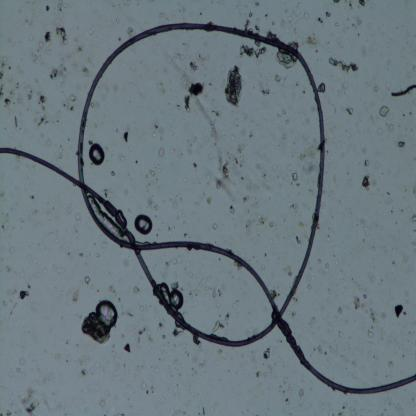Air bubble: (160, 281, 184, 311), (95, 299, 118, 328), (88, 143, 106, 166), (134, 212, 152, 235), (397, 140, 406, 148)
Background material: (80, 312, 112, 345), (224, 64, 244, 107), (390, 81, 416, 100), (298, 138, 320, 160), (275, 48, 297, 70), (328, 57, 360, 72), (20, 386, 37, 414), (66, 283, 84, 306), (238, 44, 267, 58), (242, 12, 261, 33), (196, 97, 212, 121), (57, 94, 76, 114), (255, 162, 270, 187), (36, 104, 50, 129), (209, 120, 221, 148), (279, 376, 295, 396), (26, 210, 42, 230), (144, 190, 158, 212), (222, 183, 237, 203), (40, 389, 52, 412), (55, 27, 69, 46), (268, 158, 280, 180), (152, 121, 165, 141), (186, 82, 204, 96), (0, 212, 12, 233), (42, 26, 52, 51), (59, 56, 69, 81), (7, 74, 18, 96), (257, 82, 272, 98), (302, 33, 319, 47), (185, 135, 198, 153), (46, 228, 61, 243), (286, 199, 300, 215), (160, 218, 174, 234), (96, 395, 110, 411), (155, 312, 165, 334), (74, 213, 85, 233), (394, 302, 406, 320), (215, 148, 224, 172), (116, 295, 126, 316), (280, 263, 294, 278), (154, 79, 166, 96), (0, 59, 5, 99), (172, 191, 183, 209), (243, 182, 252, 204), (174, 48, 188, 62), (184, 284, 197, 298), (335, 77, 348, 91), (0, 381, 13, 395), (195, 50, 211, 61), (328, 338, 339, 354), (244, 216, 254, 233), (361, 176, 371, 193), (7, 285, 18, 300), (78, 63, 89, 78), (221, 162, 230, 180), (112, 360, 121, 378), (352, 295, 362, 311), (312, 341, 322, 357), (379, 104, 390, 118), (191, 334, 202, 348), (30, 50, 40, 65), (307, 316, 317, 331), (272, 73, 284, 85), (212, 320, 224, 332), (195, 404, 207, 416), (304, 165, 317, 176), (168, 406, 182, 416), (366, 270, 376, 284), (322, 262, 332, 276), (106, 284, 118, 295), (73, 43, 85, 54), (211, 287, 222, 299), (78, 358, 94, 366), (201, 278, 210, 292), (184, 95, 191, 113), (266, 363, 275, 377), (236, 140, 245, 154), (50, 66, 59, 80), (19, 289, 30, 300), (122, 342, 132, 354), (259, 96, 269, 108), (24, 18, 34, 30), (151, 394, 166, 402), (362, 225, 371, 238), (57, 143, 63, 162), (370, 307, 377, 323), (122, 130, 130, 144), (10, 302, 18, 316), (136, 325, 147, 335), (13, 114, 20, 129), (318, 81, 326, 94), (26, 31, 34, 44), (3, 264, 13, 274), (188, 61, 198, 71), (366, 330, 376, 340), (354, 281, 364, 291), (387, 358, 396, 369), (287, 309, 298, 318), (257, 214, 266, 225), (88, 100, 97, 111), (89, 24, 96, 38), (292, 170, 299, 184), (264, 349, 271, 363), (324, 231, 332, 243), (25, 88, 33, 100), (125, 24, 133, 36), (252, 199, 260, 211), (38, 93, 46, 105), (64, 336, 72, 348), (212, 109, 222, 118), (172, 328, 182, 337), (116, 154, 126, 163), (330, 174, 340, 183), (206, 149, 214, 160), (386, 120, 394, 131), (132, 286, 143, 294), (346, 105, 354, 116), (58, 2, 69, 10), (101, 240, 109, 251), (376, 125, 383, 137), (147, 332, 154, 344), (295, 234, 302, 246), (79, 368, 88, 377), (329, 406, 337, 416), (246, 129, 254, 139), (69, 92, 77, 102), (280, 130, 288, 140), (357, 1, 367, 9), (284, 119, 294, 127), (190, 367, 198, 377), (7, 246, 15, 256), (17, 357, 25, 367), (314, 255, 322, 265), (224, 314, 230, 327), (271, 289, 278, 300), (158, 147, 165, 158), (370, 178, 378, 187), (195, 347, 204, 355), (182, 228, 188, 240), (136, 364, 145, 372), (332, 259, 340, 268), (4, 98, 12, 107), (114, 15, 122, 24), (169, 257, 178, 265), (54, 352, 62, 361), (56, 269, 66, 276), (168, 364, 173, 378), (297, 398, 304, 408), (198, 362, 208, 369), (173, 211, 180, 221), (338, 274, 345, 284), (230, 204, 236, 215), (113, 411, 126, 416), (44, 4, 52, 12), (280, 109, 288, 117), (201, 40, 209, 48), (292, 295, 300, 303), (28, 193, 35, 202), (232, 301, 239, 310), (173, 358, 180, 367), (295, 219, 304, 226), (206, 196, 212, 206), (255, 370, 262, 378), (127, 310, 134, 318), (110, 349, 118, 356), (324, 11, 332, 18), (40, 266, 47, 274), (1, 299, 8, 307), (25, 282, 32, 290), (338, 329, 344, 338), (139, 305, 145, 314), (4, 410, 13, 416), (216, 178, 221, 188), (240, 155, 245, 165), (18, 96, 23, 106), (140, 381, 146, 389), (306, 284, 312, 292), (413, 181, 416, 197), (192, 162, 198, 170), (156, 164, 162, 172), (212, 222, 218, 230), (84, 276, 90, 284), (268, 220, 274, 228), (160, 332, 166, 340), (154, 366, 160, 374), (218, 348, 226, 354), (32, 273, 40, 279), (94, 360, 100, 368), (149, 168, 155, 176), (260, 262, 265, 271), (411, 214, 416, 223), (110, 169, 116, 176), (352, 359, 359, 365), (188, 271, 194, 278), (20, 372, 26, 379), (8, 370, 14, 377), (136, 336, 141, 344), (115, 126, 120, 134), (299, 389, 304, 397), (66, 354, 71, 362), (410, 241, 416, 247), (385, 190, 391, 196), (177, 371, 183, 377), (94, 252, 100, 258), (78, 251, 84, 257), (338, 308, 343, 315), (48, 326, 52, 334), (284, 397, 289, 403), (294, 82, 299, 88), (320, 404, 325, 410), (301, 89, 306, 95), (338, 411, 344, 416), (180, 177, 186, 182), (392, 220, 398, 225), (360, 218, 365, 224), (323, 350, 328, 356), (123, 362, 127, 369), (151, 384, 154, 393), (134, 159, 139, 164), (263, 252, 268, 257), (136, 345, 140, 351), (341, 404, 345, 410), (372, 246, 376, 252), (374, 85, 378, 91), (17, 367, 21, 373), (364, 294, 368, 300), (165, 262, 169, 268), (365, 162, 370, 166), (145, 390, 149, 395), (390, 208, 393, 214), (22, 346, 25, 352), (172, 150, 176, 154), (400, 208, 404, 212), (409, 110, 412, 115), (0, 411, 3, 416), (392, 261, 396, 264), (380, 412, 383, 416), (228, 368, 231, 372), (131, 406, 134, 410), (122, 334, 124, 338), (151, 365, 153, 369), (113, 344, 115, 348), (219, 378, 221, 382), (187, 353, 189, 357), (185, 350, 186, 354), (159, 358, 161, 360), (177, 384, 179, 386)
Microfibre: (0, 22, 416, 394)
